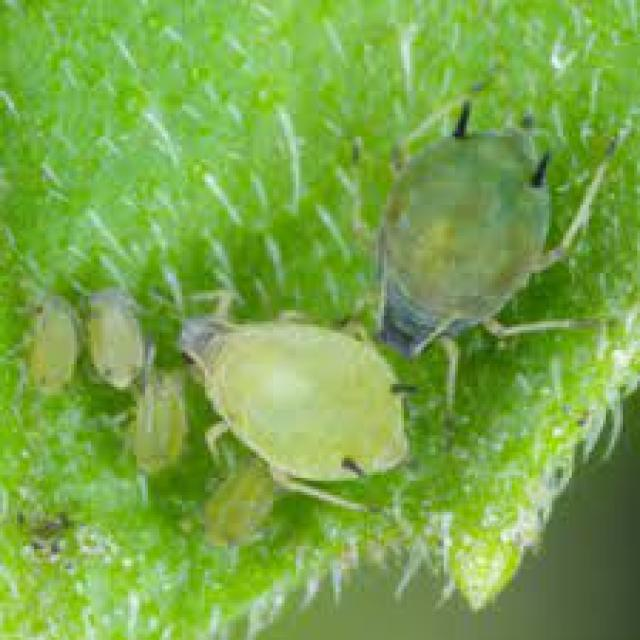aphid: (163, 272, 434, 516), (356, 82, 568, 380)
